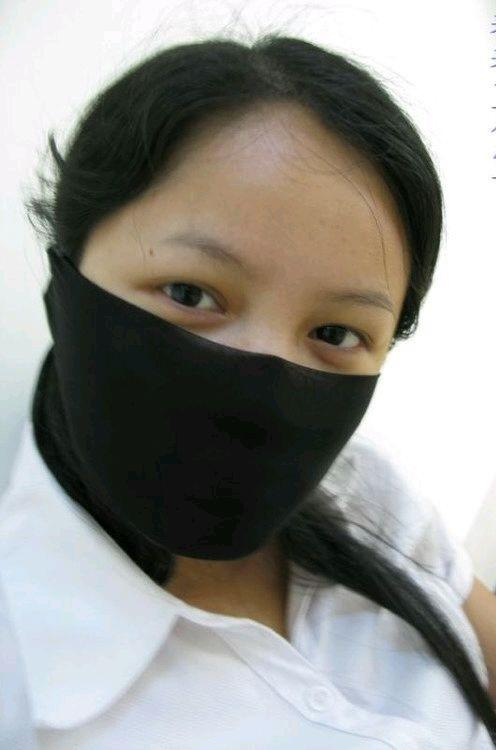OK: (53, 215, 391, 561)
